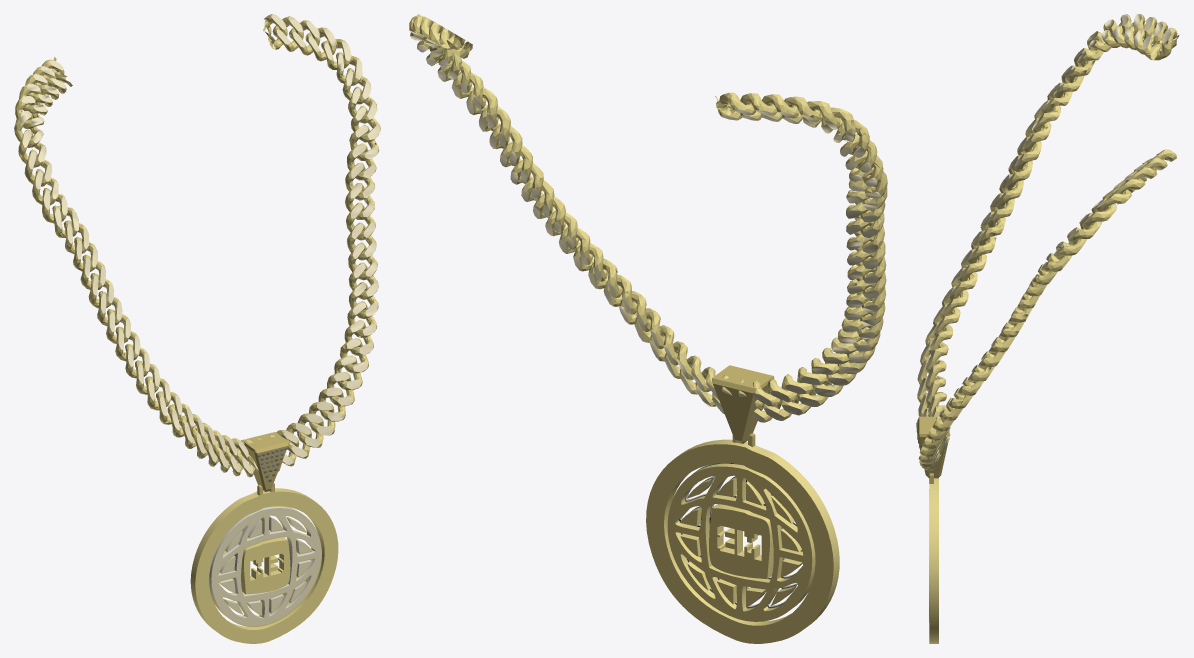
The model's file is M3CHAIN - Copy.fbx.
The picture shows the model from 3 angles, left to right: view 1: azimuth 30°, elevation 25°; view 2: azimuth 150°, elevation 25°; view 3: azimuth 270°, elevation 25°; orthographic projection. The views are drawn at different scales.
Visible parts, largest first — view 1: M3ADS; view 2: M3ADS; view 3: M3ADS.
Part boxes in pixels (bbox=[...]): M3ADS: bbox=[14, 14, 380, 643]; M3ADS: bbox=[409, 14, 887, 643]; M3ADS: bbox=[916, 14, 1179, 643].
Size of the model in its own units: 26.15 by 37.87 by 16.27.
Materials: 6 (1 with a texture image).
